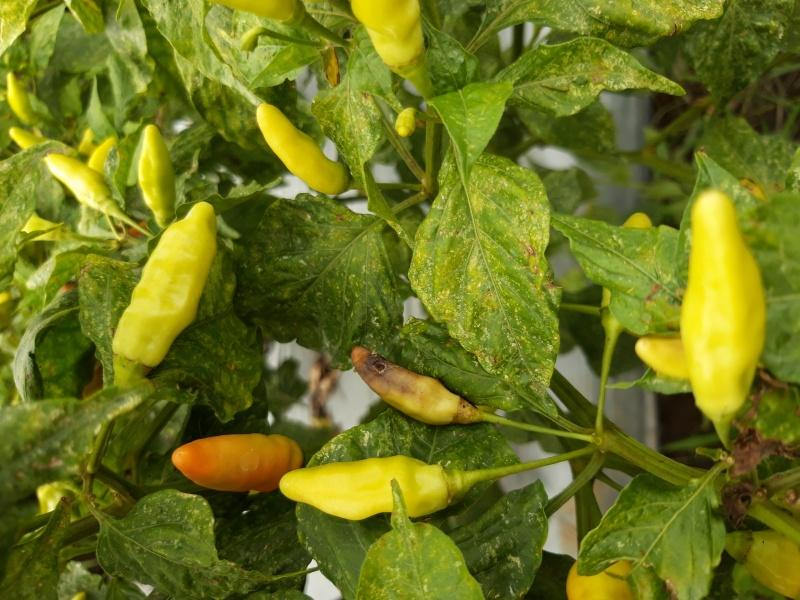cabai_normal: (677, 189, 767, 416), (114, 200, 218, 366), (279, 453, 457, 521), (256, 101, 349, 192), (170, 432, 301, 494), (354, 1, 424, 64), (138, 124, 177, 220), (44, 155, 111, 204)
lalat_buah: (351, 347, 462, 426)
